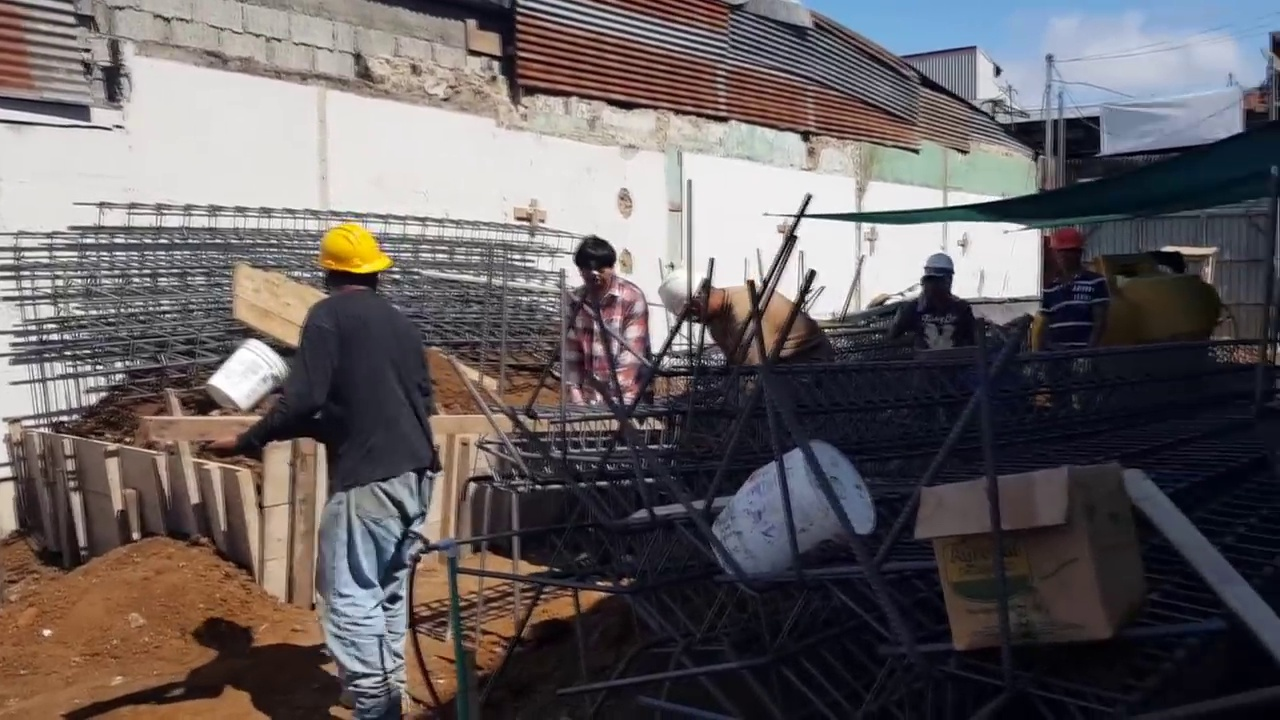helmet: (307, 221, 390, 275), (661, 264, 708, 332), (922, 255, 956, 283), (1048, 227, 1084, 252)
helmet-off: (573, 236, 618, 298)
helmet-on: (312, 225, 391, 305), (660, 263, 735, 330), (1049, 228, 1085, 274), (922, 256, 956, 300)
person: (198, 217, 441, 711), (661, 259, 835, 369), (564, 230, 648, 398), (1032, 227, 1111, 363), (891, 256, 984, 352)
